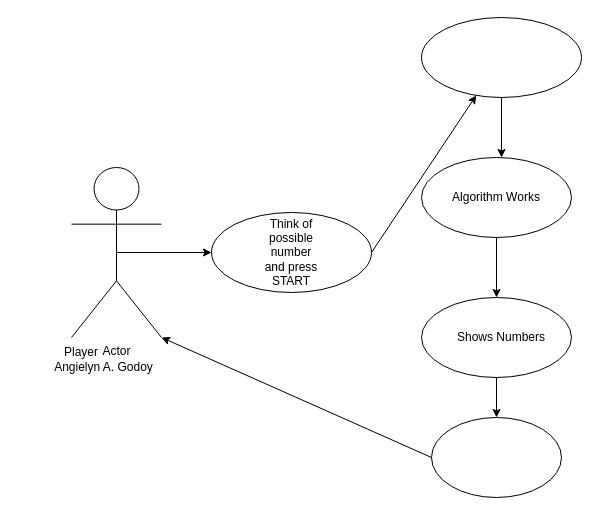
Image size: 599x515. Some labels were removed from this diagram. The shapes that lost their labels are listed below. From the top down, each one's centre as x and y in pixels, then its label:
[501,57]: START
[496,457]: END
